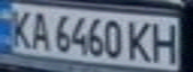0: (103, 16, 127, 60)
4: (69, 14, 87, 56)
6: (48, 11, 72, 54), (84, 15, 106, 58)
A: (27, 8, 54, 52)
H: (148, 19, 184, 64)
K: (124, 17, 157, 63), (3, 6, 36, 51)
